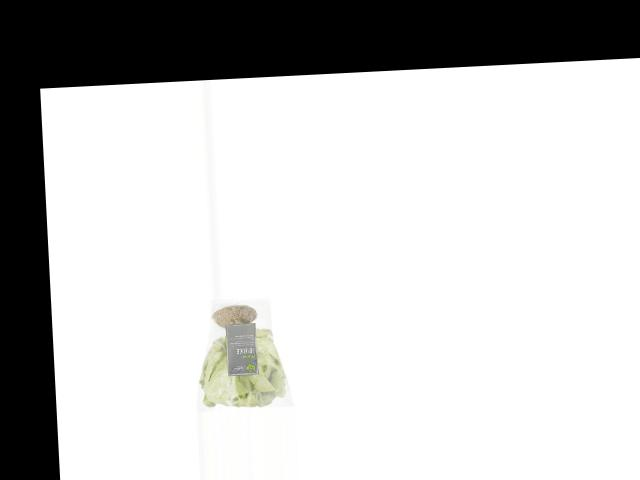lettuce: (192, 296, 291, 411)
